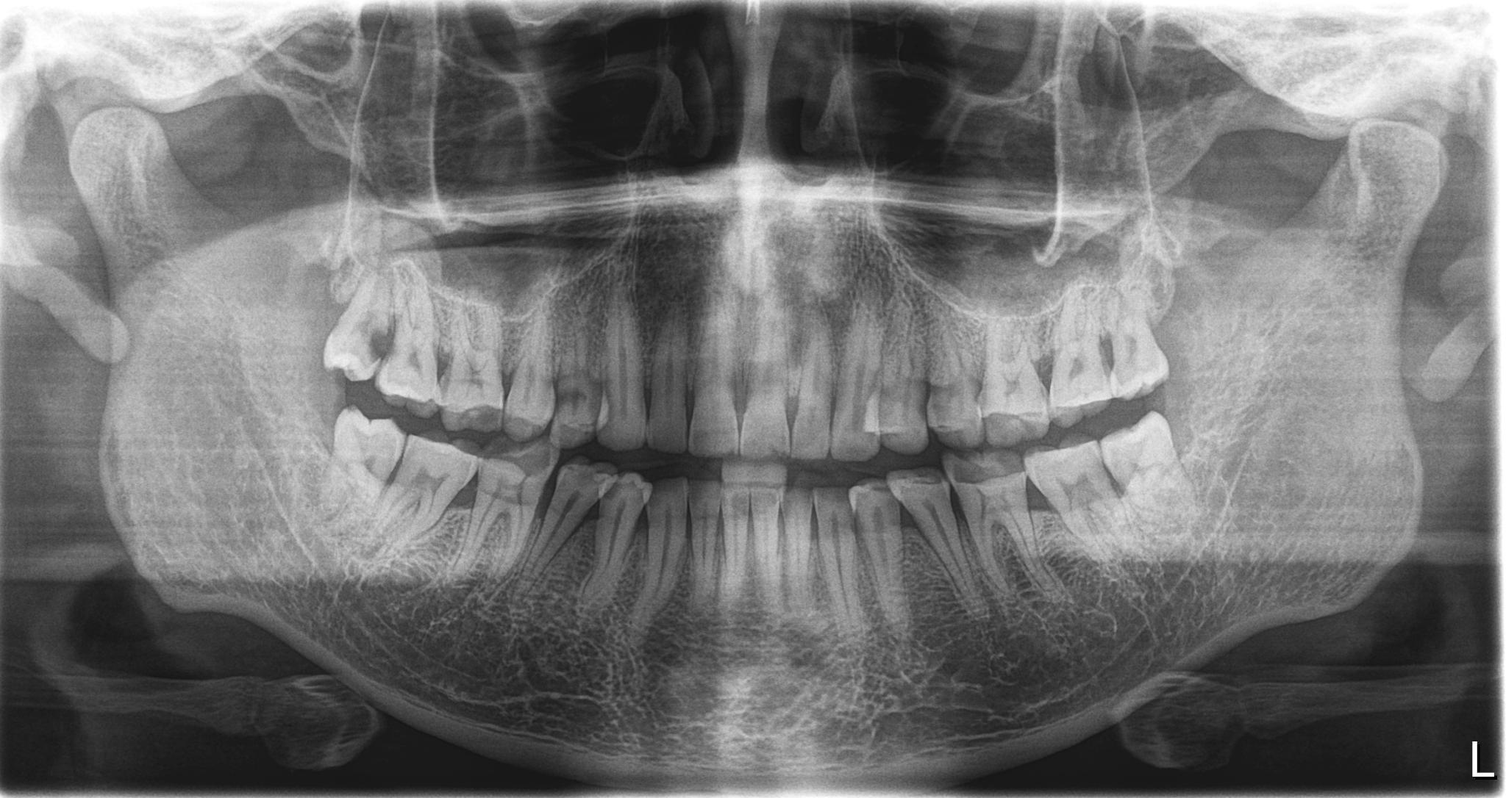Attrition: (840, 487, 904, 522), (603, 474, 648, 507)
Dental Caries: (553, 375, 610, 420), (1023, 470, 1054, 528), (364, 310, 401, 357), (449, 472, 482, 523), (1024, 349, 1057, 396), (1063, 347, 1088, 385), (1094, 332, 1117, 373)
Impacted Third Molar: (1103, 416, 1191, 512), (324, 411, 399, 507)
